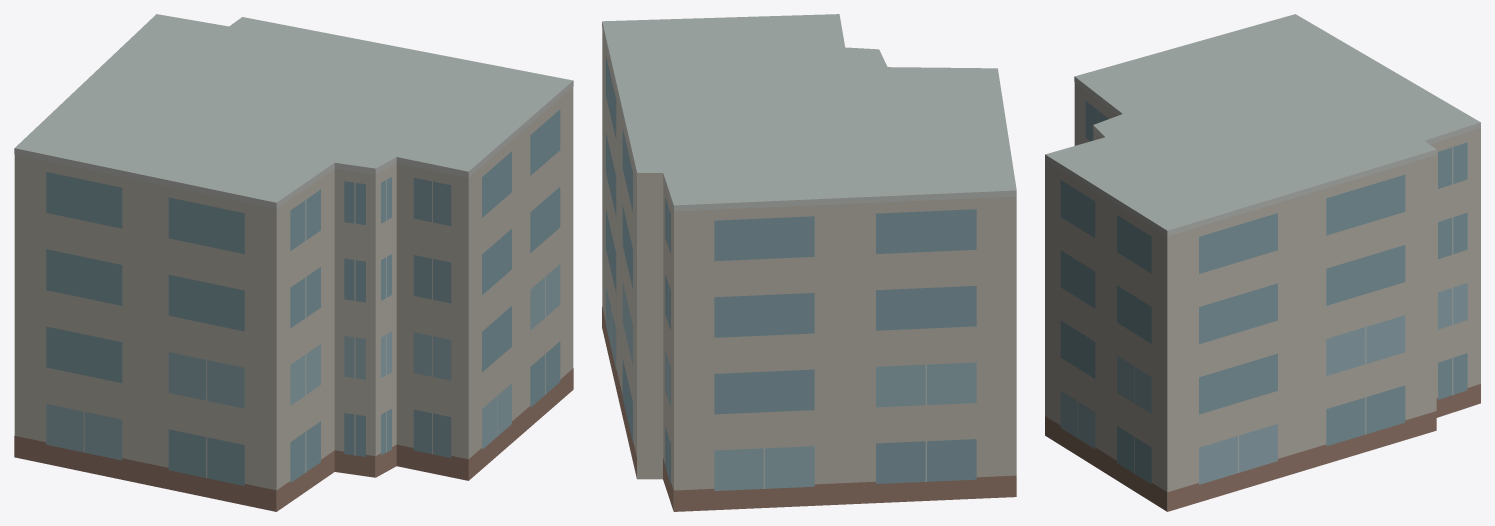
The model's file is survey-upis-32789819.glb.
The picture shows the model from 3 angles, left to right: view 1: azimuth 30°, elevation 25°; view 2: azimuth 150°, elevation 25°; view 3: azimuth 270°, elevation 25°; orthographic projection. The views are drawn at different scales.
Parts seen in each view (by area): view 1: survey-upis-32789819.tmp; view 2: survey-upis-32789819.tmp; view 3: survey-upis-32789819.tmp.
Boxes of the visible parts, x1,y1,x2,y2 form: survey-upis-32789819.tmp: [14, 14, 573, 511]; survey-upis-32789819.tmp: [602, 14, 1016, 511]; survey-upis-32789819.tmp: [1045, 14, 1480, 511].
Bounding box in the file's own units: 20.52 × 12.4 × 17.43.
